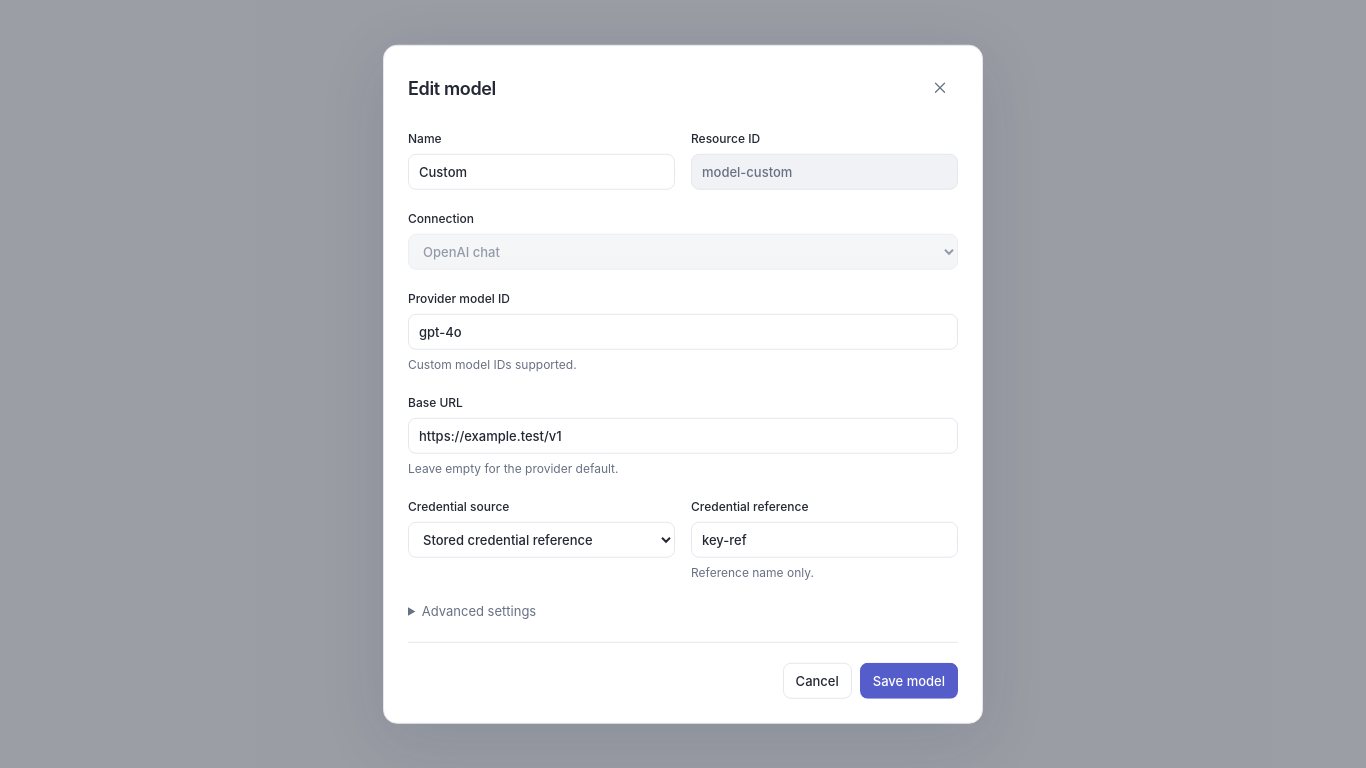
Test: keeps the draft when source CAS rejects the save
Replace the text in the field labelled "Name" with "Unsaved draft" at {"x": 542, "y": 172}, box 408,154 -> 675,190
(page scrolled)
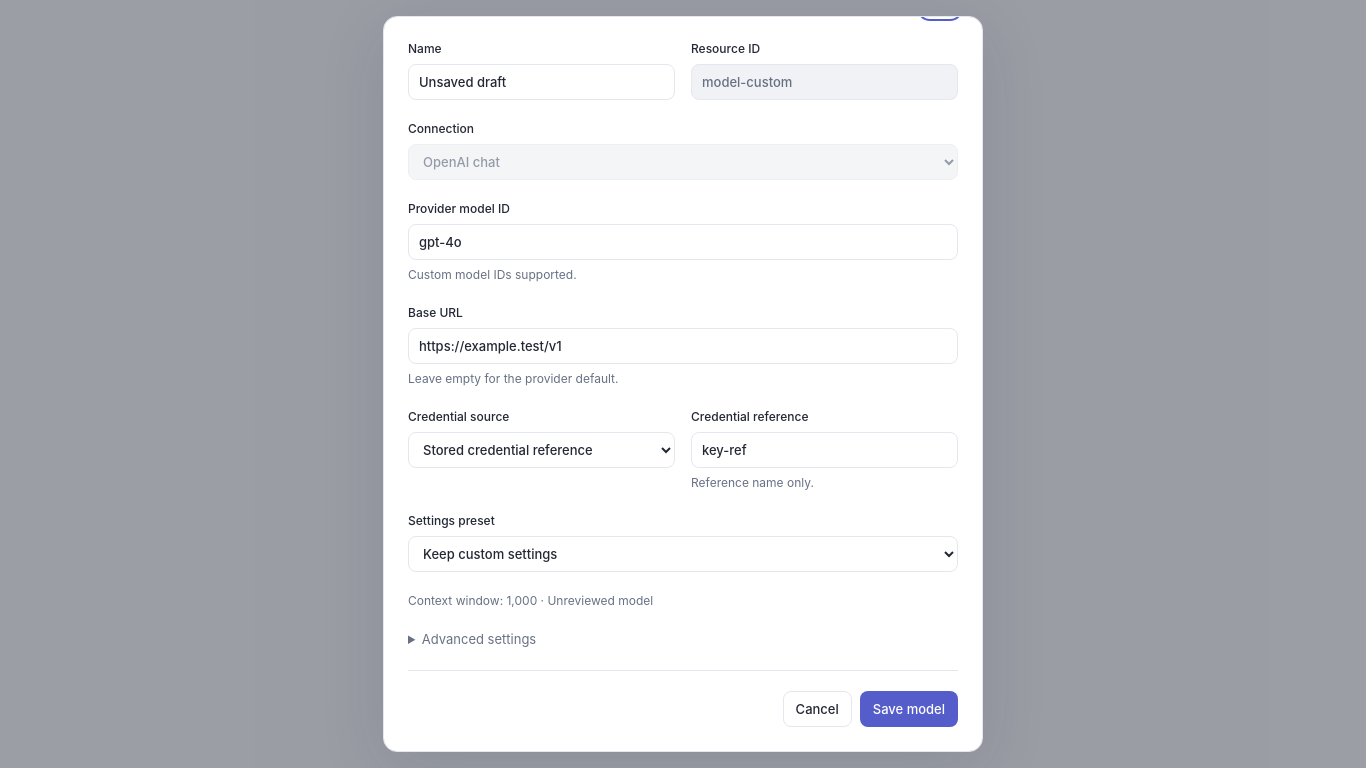
Click the button "Save model" at {"x": 909, "y": 708}, box 860,690 -> 958,726
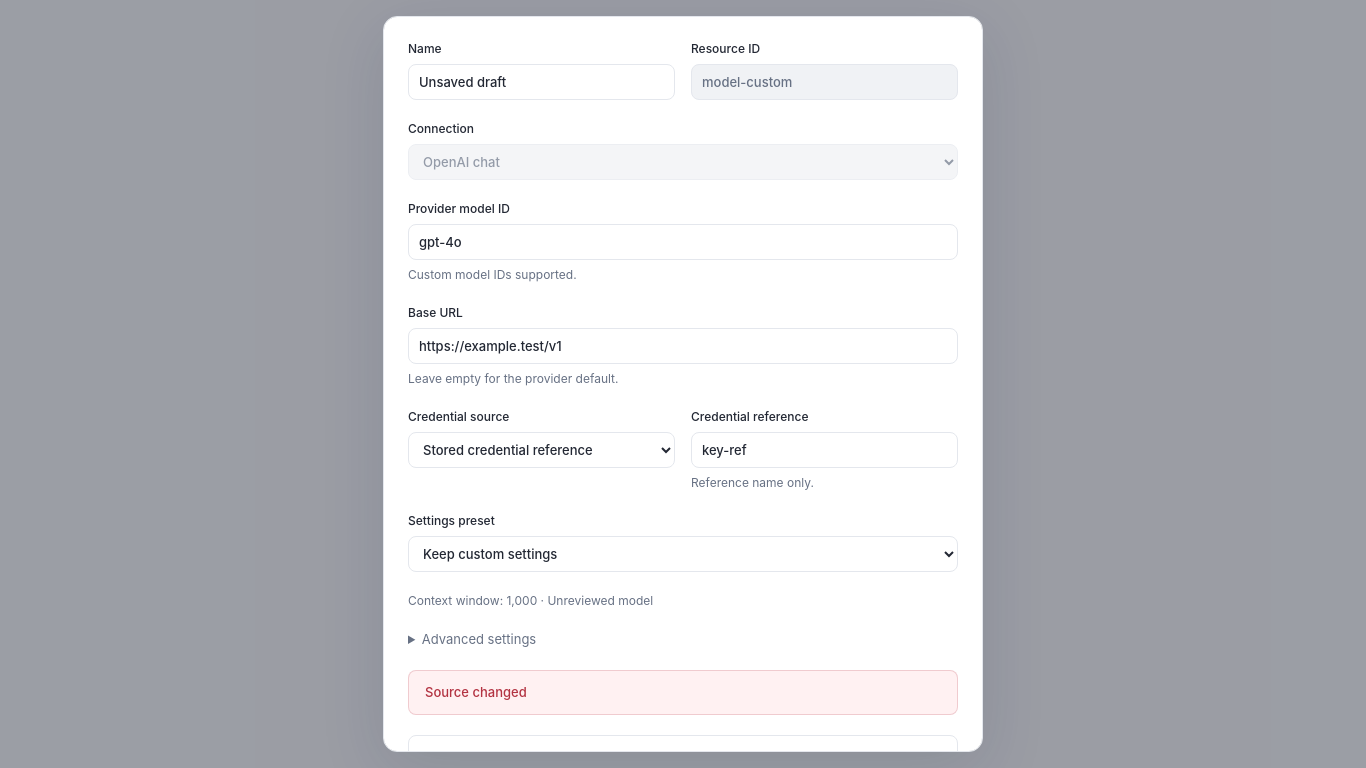
expect the message "Source changed" is shown: met, box 408,670 -> 958,715
